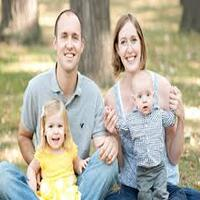person: (109, 3, 155, 75), (43, 5, 89, 73), (28, 100, 78, 158), (123, 73, 167, 126)
